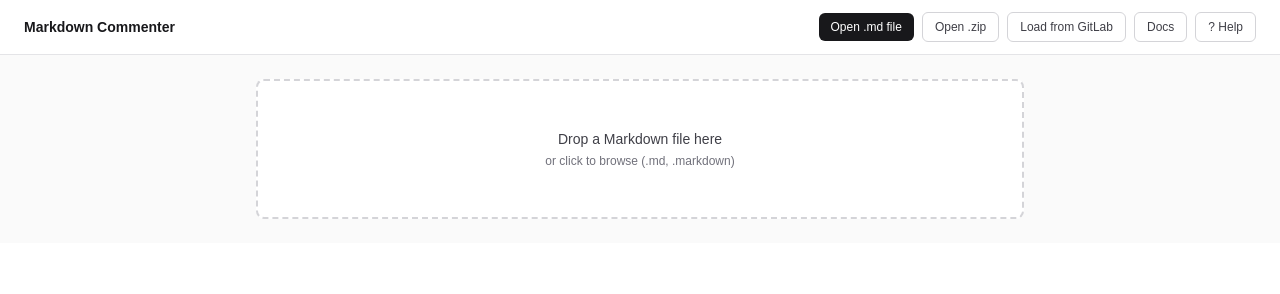
Home page — Docs nav › selecting Pitch deck fetches and renders its content
This screenshot has width=1280, height=294.
Click the button "Docs".
click(1161, 27)  # box 1134,12 -> 1187,42
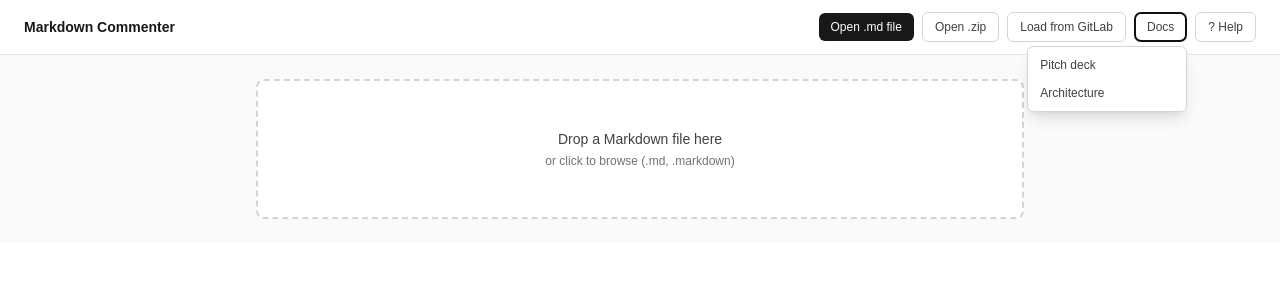
Click the menu item "Pitch deck".
click(1107, 65)  # box 1028,51 -> 1186,79
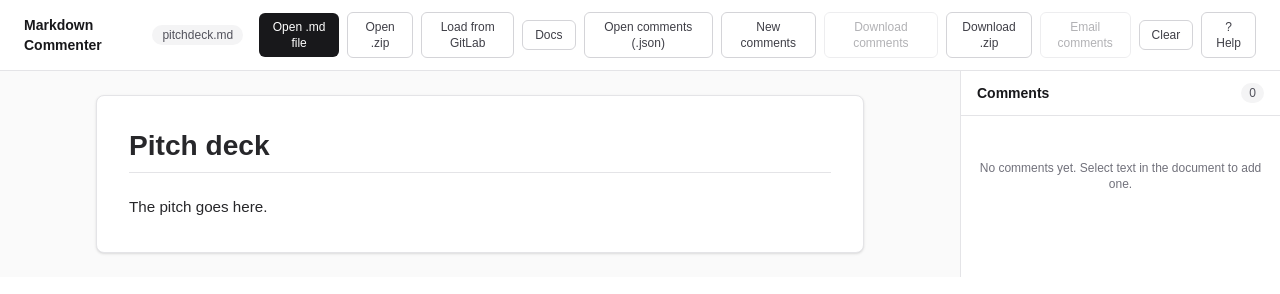
Check: the text "The pitch goes here." is shown, box 129,198 -> 268,215
Check: the text "pitchdeck.md" is shown, box 152,25 -> 243,45
